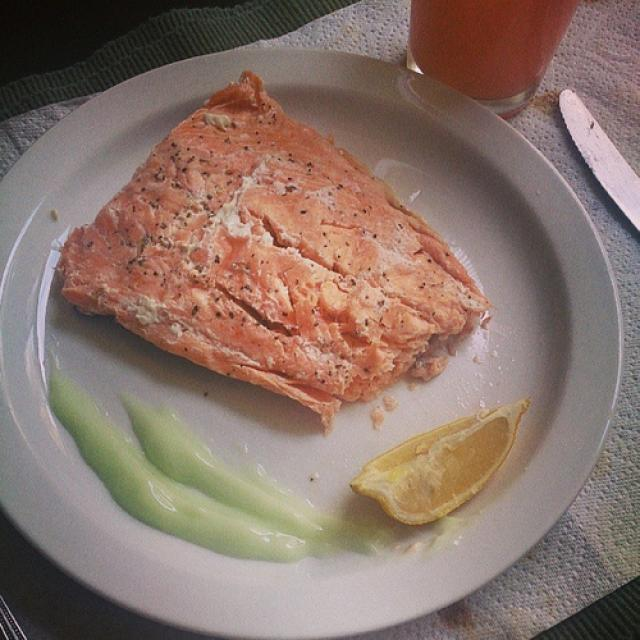熟制海鲜: (0, 25, 623, 628)
